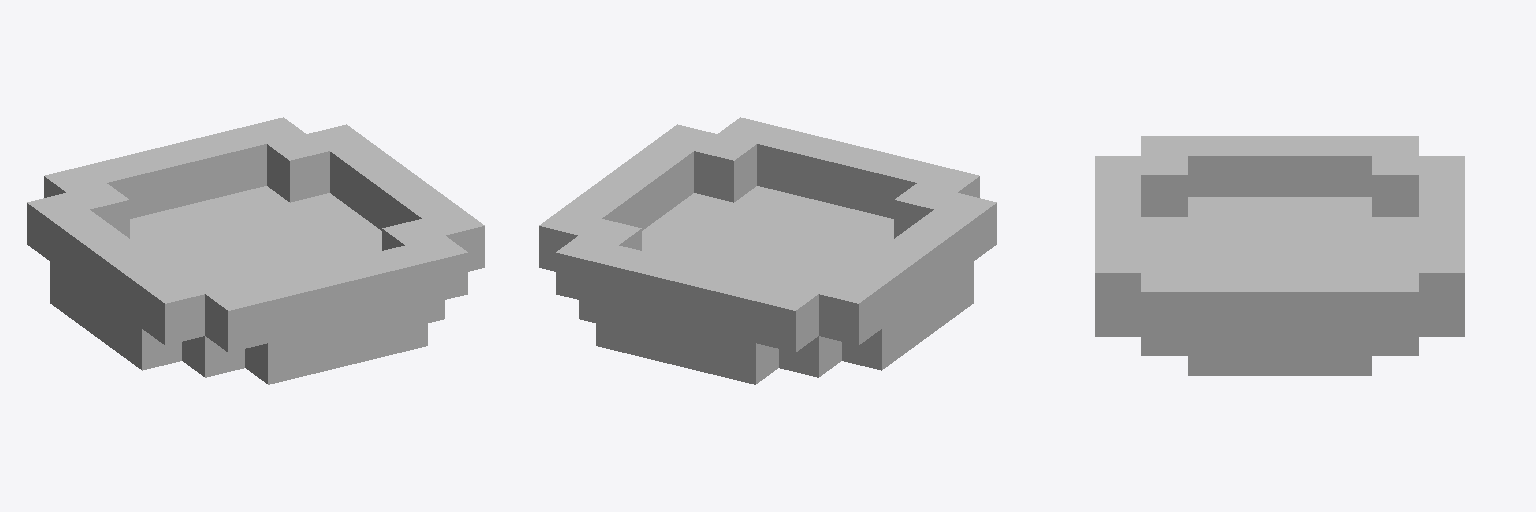
Rendered from Plate.obj.
The picture shows the model from 3 angles: view 1: azimuth 30°, elevation 25°; view 2: azimuth 150°, elevation 25°; view 3: azimuth 270°, elevation 25°; orthographic projection.
Visible parts, largest first — view 1: object 1; view 2: object 1; view 3: object 1.
Boxes of the visible parts, <box> form: object 1: <box>27,117,484,384</box>; object 1: <box>539,117,996,384</box>; object 1: <box>1095,136,1464,375</box>.
Size of the model in its own units: 0.8 by 0.2 by 0.8.